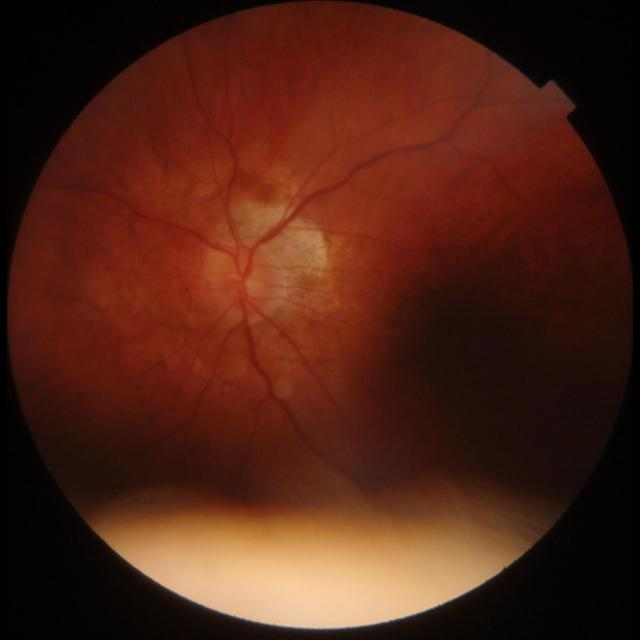OC: (243, 274, 262, 293)
OD: (209, 243, 278, 322)
